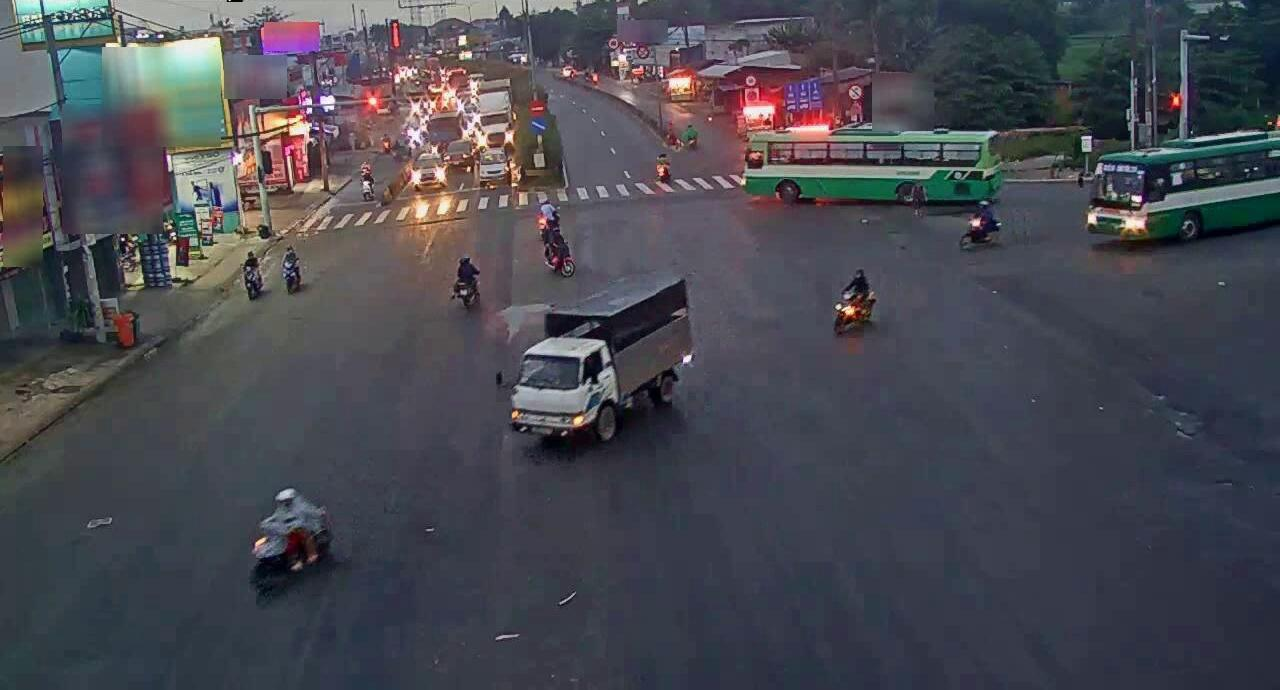xe buyt: (739, 127, 990, 204)
xe may: (248, 487, 331, 593), (834, 270, 881, 332), (451, 251, 487, 319), (539, 226, 575, 276), (531, 195, 558, 240)
xe tai: (514, 289, 695, 452)
